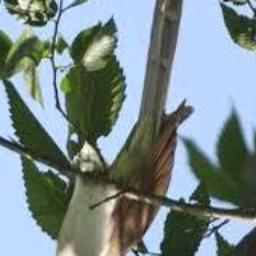Cuckoo: (28, 0, 193, 256)
